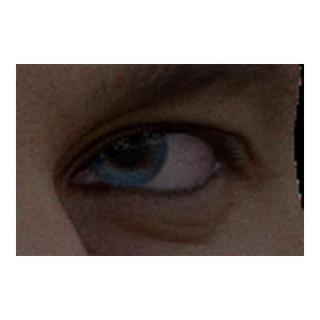pupil: (109, 130, 145, 166)
